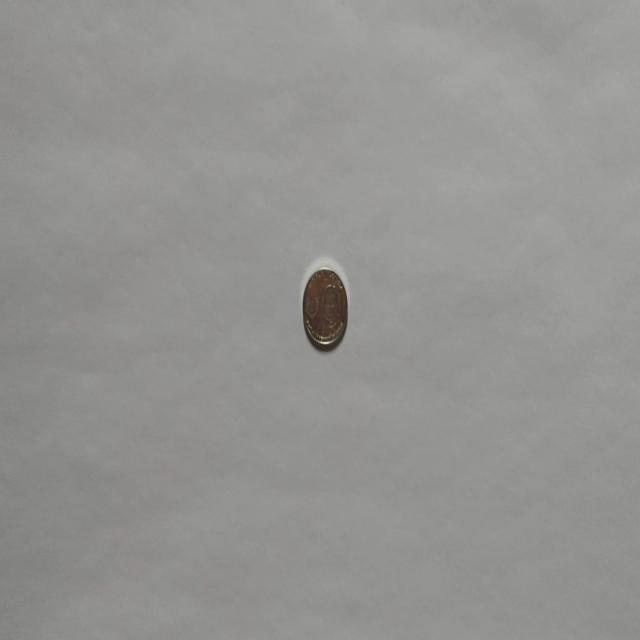seratus rupiah: (302, 265, 348, 351)
